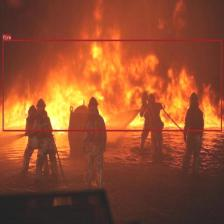fire: (2, 40, 222, 132)
